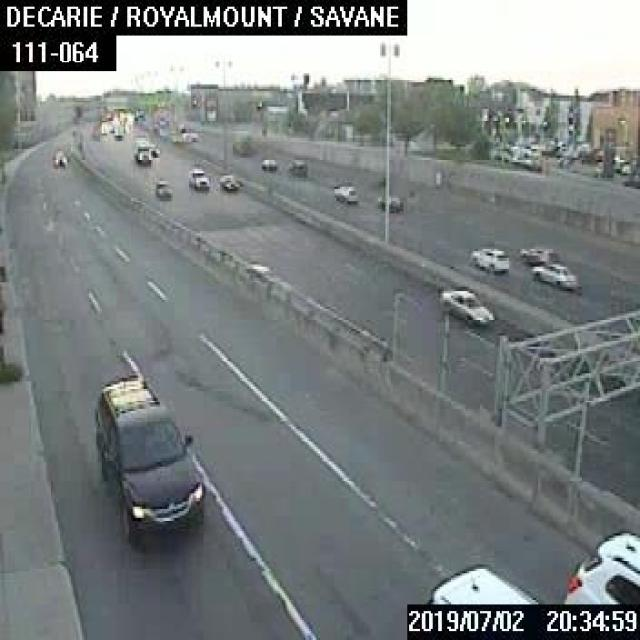vehicle: (91, 369, 204, 538), (558, 529, 638, 600), (427, 562, 540, 602), (434, 284, 494, 324), (464, 244, 509, 274), (528, 262, 576, 288), (518, 244, 559, 261), (331, 182, 358, 202), (376, 193, 402, 211), (132, 137, 150, 161), (188, 168, 208, 188), (219, 172, 239, 190), (288, 157, 306, 175), (154, 178, 171, 196), (259, 158, 275, 174), (52, 149, 66, 166), (149, 143, 158, 155)
